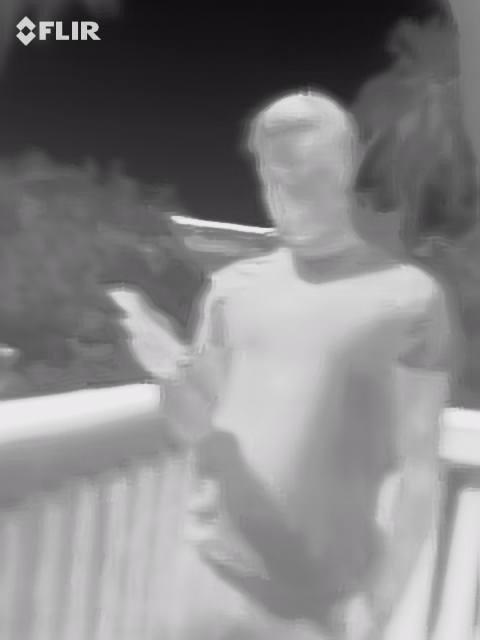head: (247, 91, 363, 242)
